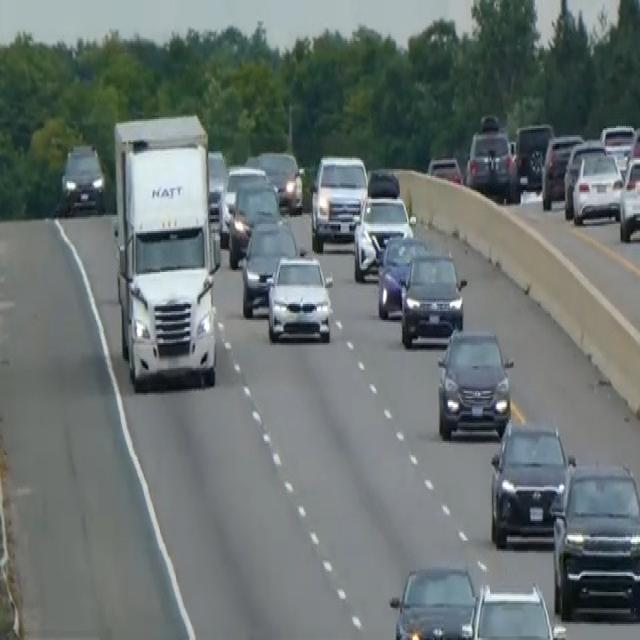car: (550, 457, 639, 620), (488, 416, 574, 548), (436, 324, 513, 439), (388, 560, 478, 638), (399, 247, 466, 347), (266, 251, 333, 343), (462, 580, 567, 638), (309, 151, 368, 251), (239, 217, 298, 316), (351, 192, 413, 279), (227, 178, 280, 266), (376, 231, 427, 320), (571, 147, 623, 225), (465, 126, 516, 198), (220, 162, 267, 238), (540, 132, 584, 210), (60, 141, 106, 215), (562, 137, 606, 213), (256, 148, 303, 214), (514, 119, 554, 190), (599, 121, 636, 174), (618, 151, 639, 242), (426, 153, 463, 185), (366, 165, 400, 198)
lorry: (111, 110, 219, 391)
